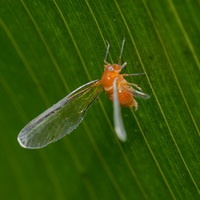insect: (18, 38, 149, 148)
